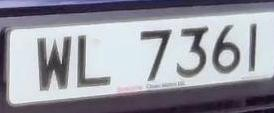1: (242, 17, 260, 76)
3: (173, 22, 212, 81)
6: (210, 18, 246, 78)
7: (132, 26, 176, 84)
L: (73, 28, 119, 96)
W: (31, 29, 75, 98)
